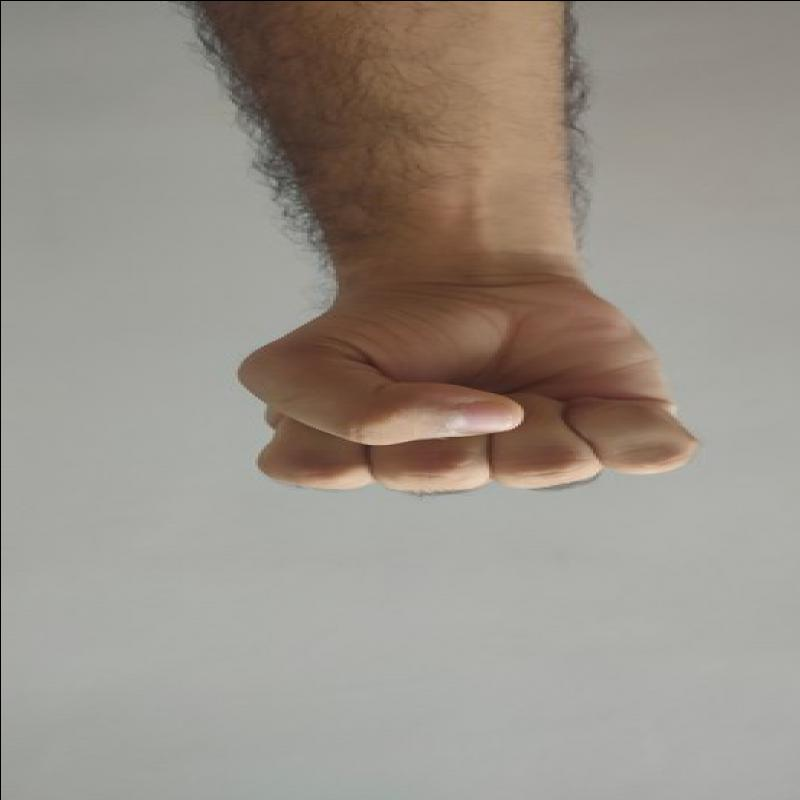Mushti: (212, 255, 720, 502)
